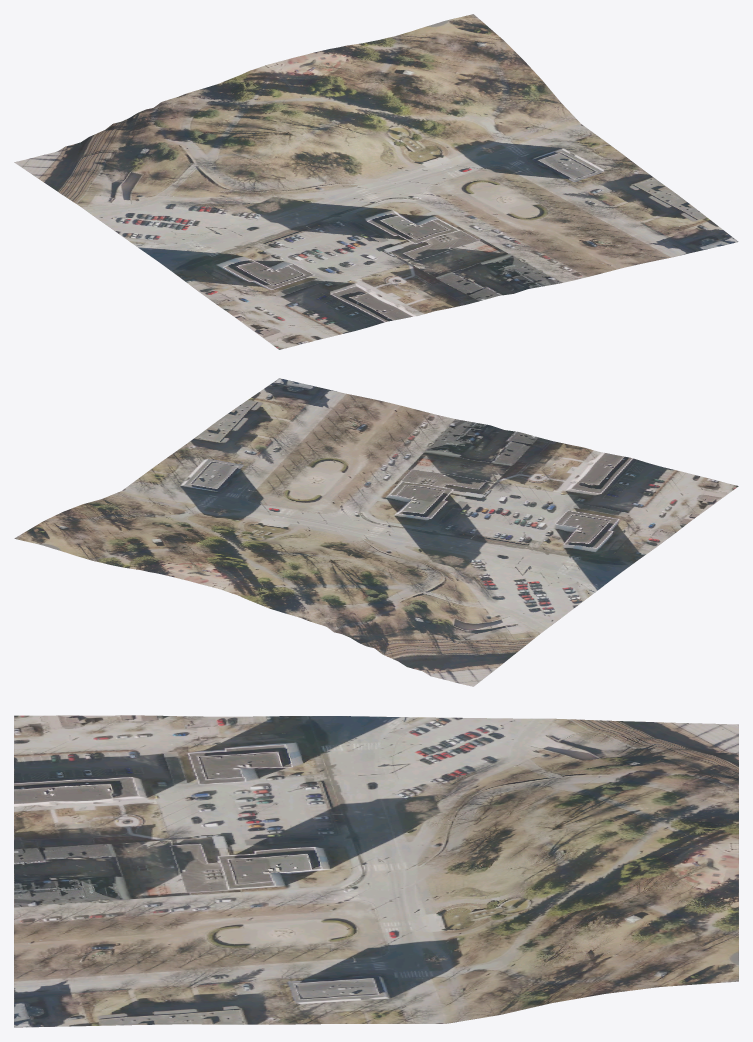
File: CM_Terrain_24486568_6821432.fbx
3 renders of one model, top to bottom at view 1: azimuth 30°, elevation 25°; view 2: azimuth 150°, elevation 25°; view 3: azimuth 270°, elevation 25°, orthographic. The views are drawn at different scales.
Parts seen in each view (by area): view 1: CM_Terrain_24486568_6821432_LOD0; view 2: CM_Terrain_24486568_6821432_LOD0; view 3: CM_Terrain_24486568_6821432_LOD0.
Part boxes in pixels (x1,y1,x2,y2): CM_Terrain_24486568_6821432_LOD0: [14, 14, 738, 349]; CM_Terrain_24486568_6821432_LOD0: [14, 378, 738, 686]; CM_Terrain_24486568_6821432_LOD0: [14, 715, 738, 1027].
Size of what is drawn, in the model's own units: 205 by 15.61 by 205.
